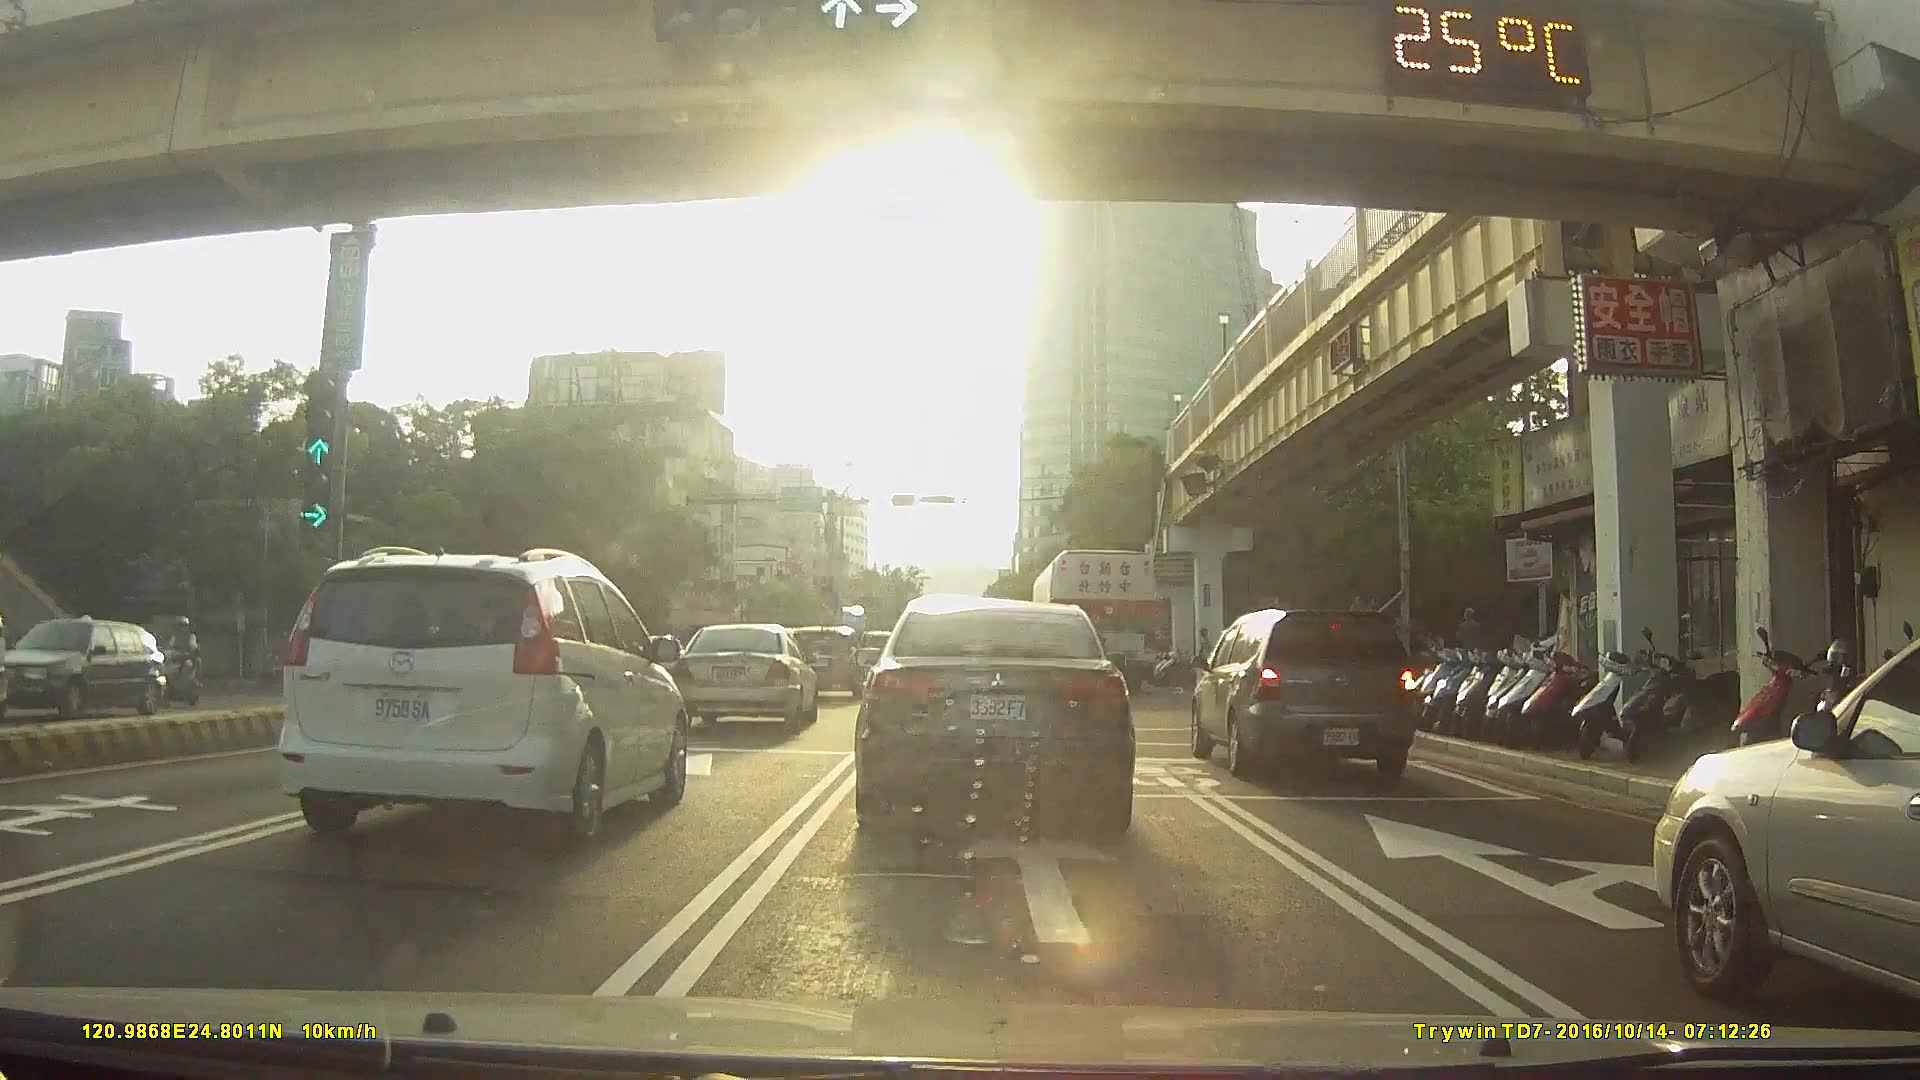pedestrian: (1205, 619, 1232, 682)
rider: (154, 613, 204, 708)
vehicle: (275, 540, 692, 847), (1646, 636, 1920, 1007), (851, 590, 1133, 841), (1193, 603, 1420, 778), (4, 616, 178, 725), (1029, 544, 1156, 689), (673, 617, 817, 727), (779, 622, 864, 696)
